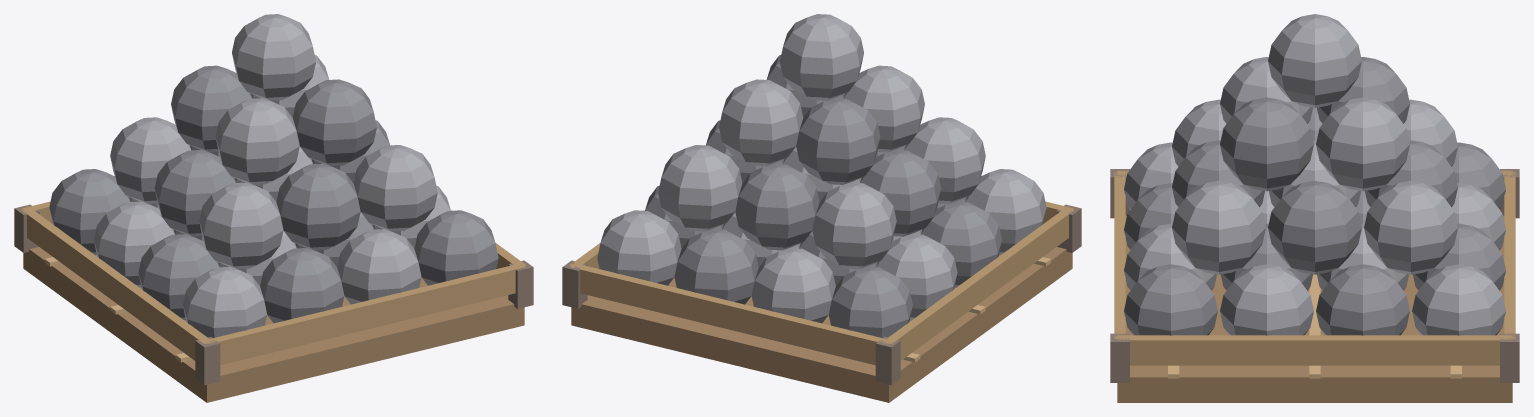
File: ws_camp_ammo.glb
The picture shows the model from 3 angles, left to right: view 1: azimuth 30°, elevation 25°; view 2: azimuth 150°, elevation 25°; view 3: azimuth 270°, elevation 25°; orthographic projection. The views are drawn at different scales.
Visible parts, largest first — view 1: ws_camp_ammo; view 2: ws_camp_ammo; view 3: ws_camp_ammo.
Boxes of the visible parts, x1,y1,x2,y2 form: ws_camp_ammo: [14, 14, 533, 402]; ws_camp_ammo: [562, 14, 1081, 402]; ws_camp_ammo: [1110, 14, 1519, 402].
Size of the model in its own units: 1.45 by 1.18 by 1.45.
